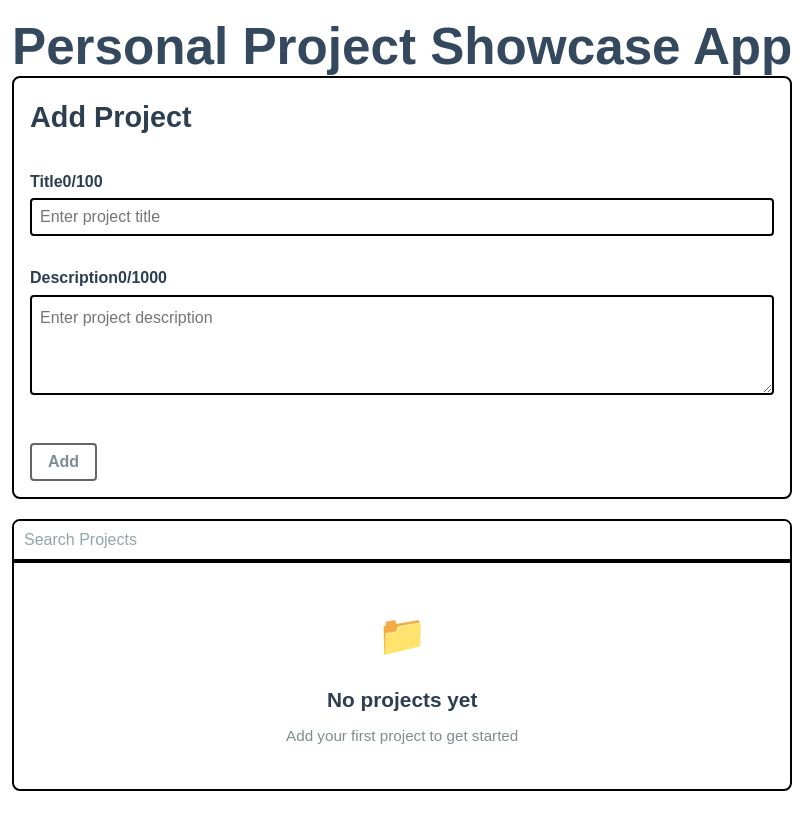
Test: App Integration - User Workflows › allows user to add a project and see it in the list
Expected: the button "Add" is disabled, [30,443,97,481]
# Fill in the form
Type "My React Project" into the field with placeholder "Enter project title".
click(402, 217); type("My React Project")  # box [30,198,774,236]
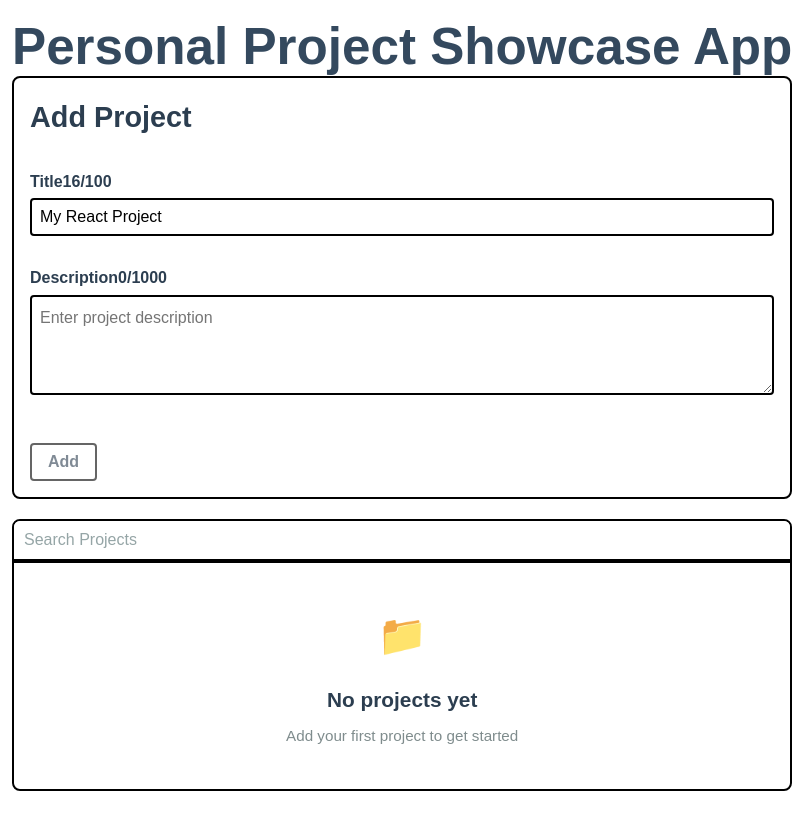
Type "A awesome React application" into the text box with placeholder "Enter project description".
click(402, 345); type("A awesome React application")  # box [30,295,774,395]
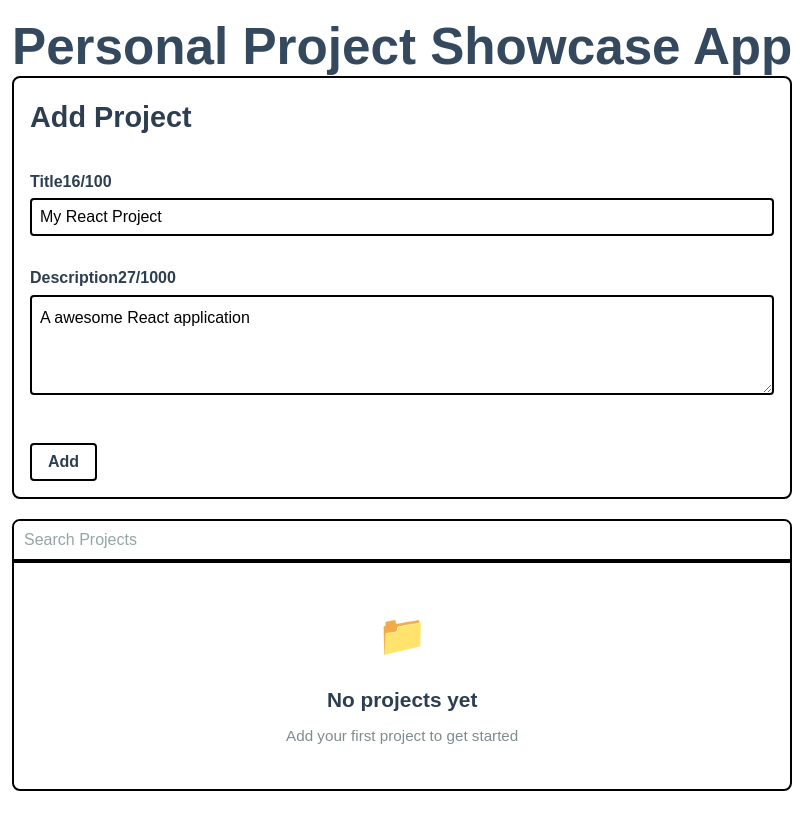
Now the button "Add" is enabled
# Submit the form
Click the button "Add".
click(64, 462)  # box [30,443,97,481]
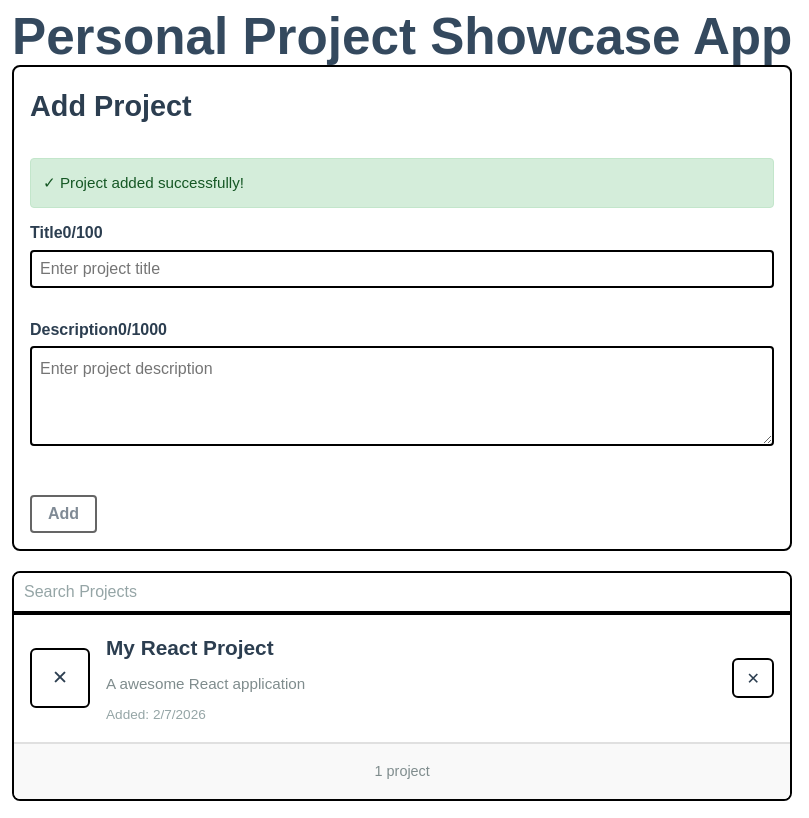
Now the text "✓ Project added successfully!" is shown, box [30,158,774,208]
Now the heading "My React Project" is shown, box [106,636,274,659]
Now the text "A awesome React application" is shown, box [106,675,305,692]
